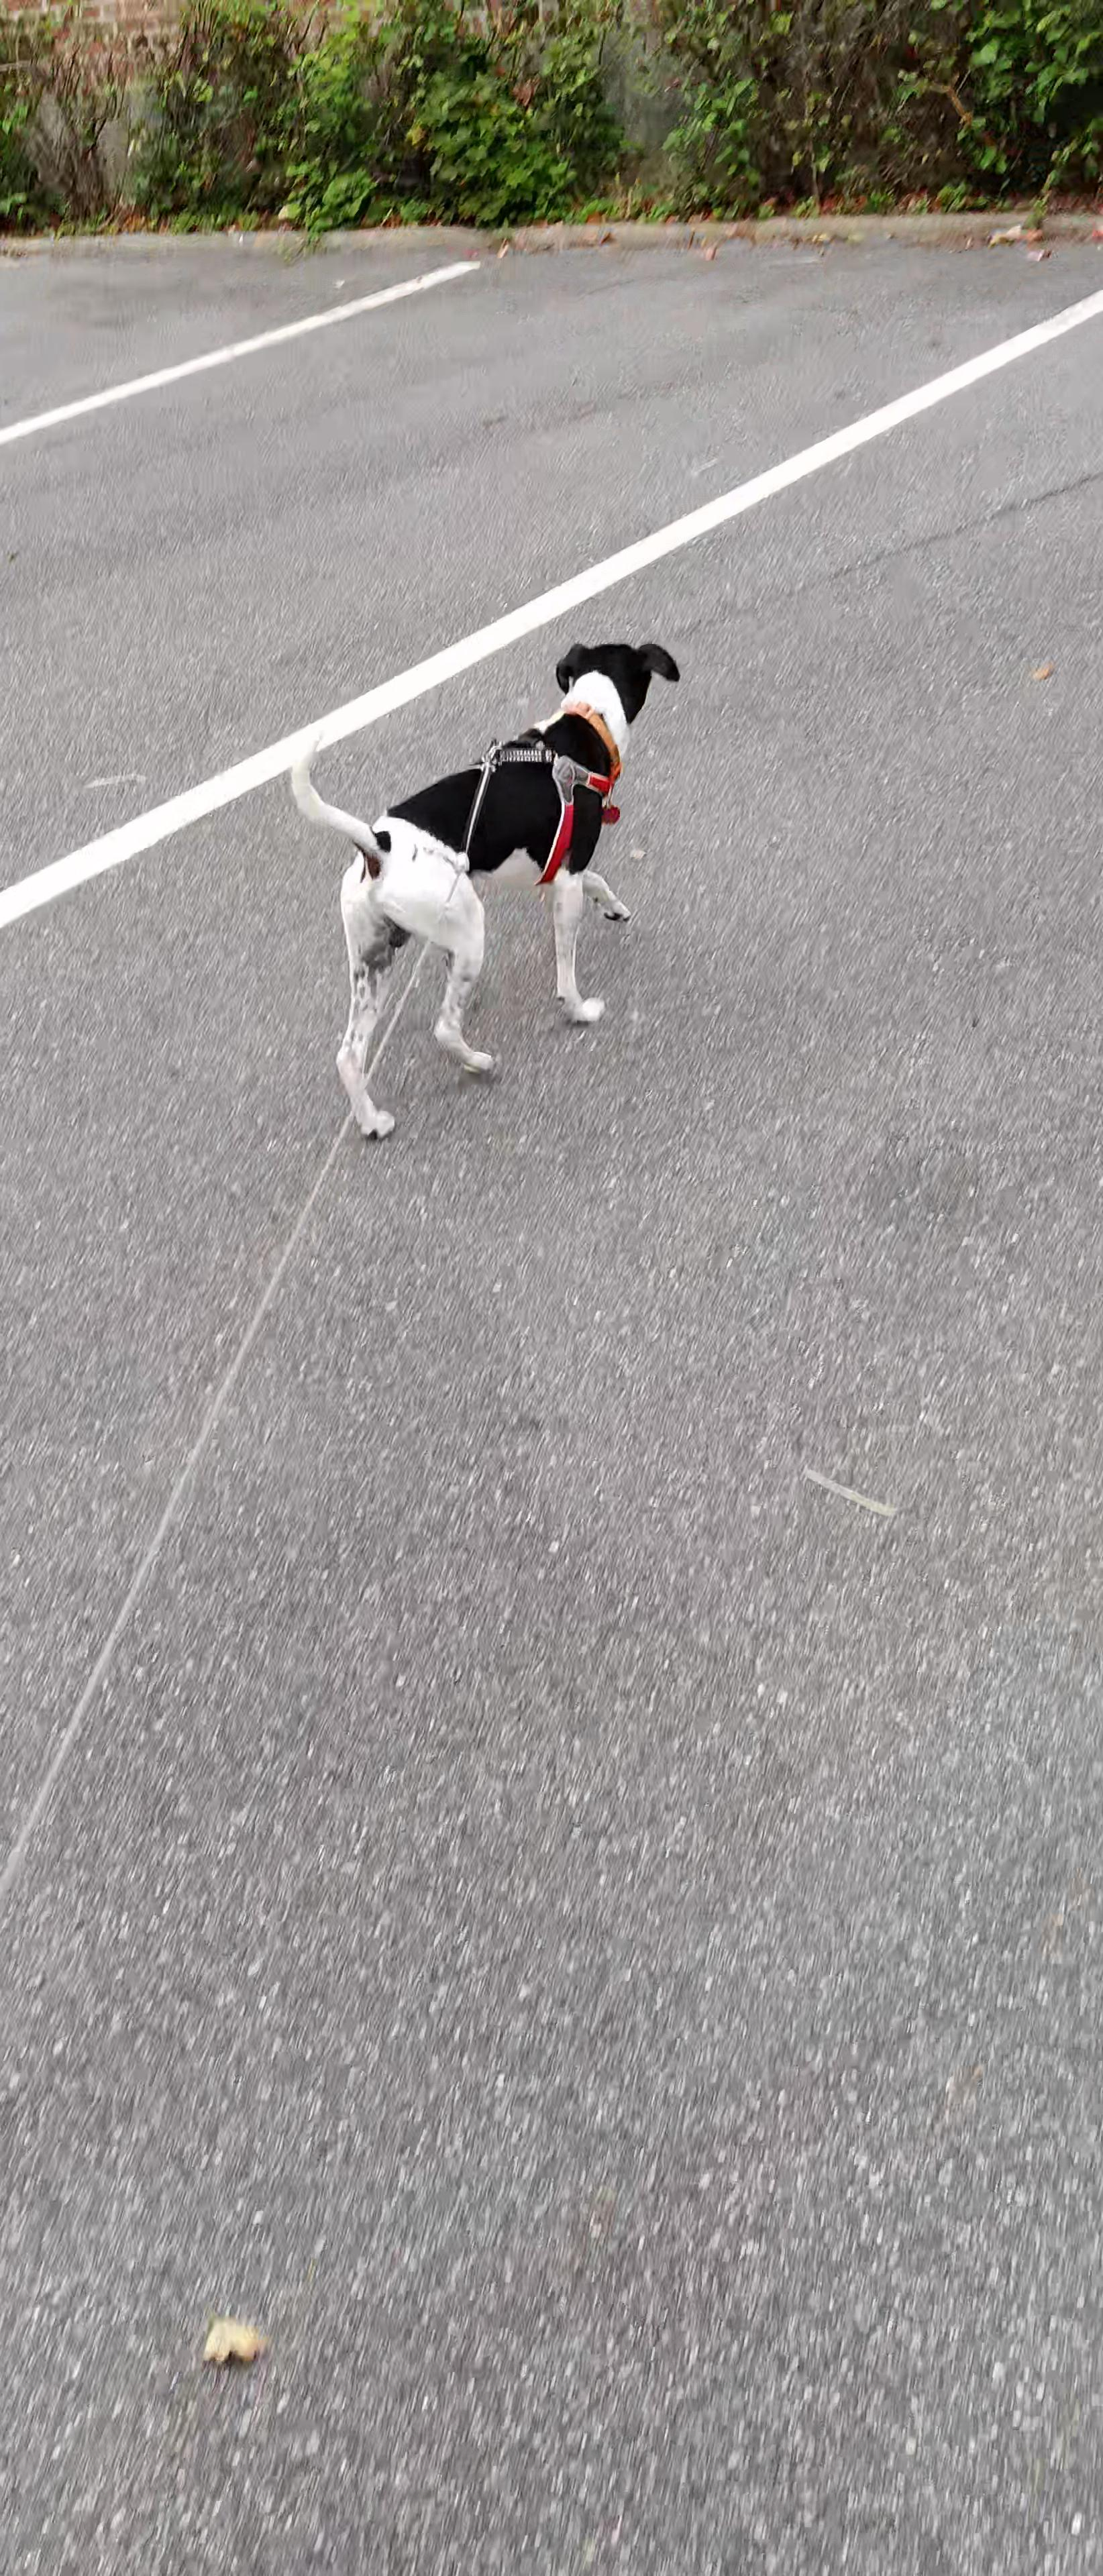Dog: (281, 639, 681, 1143)
